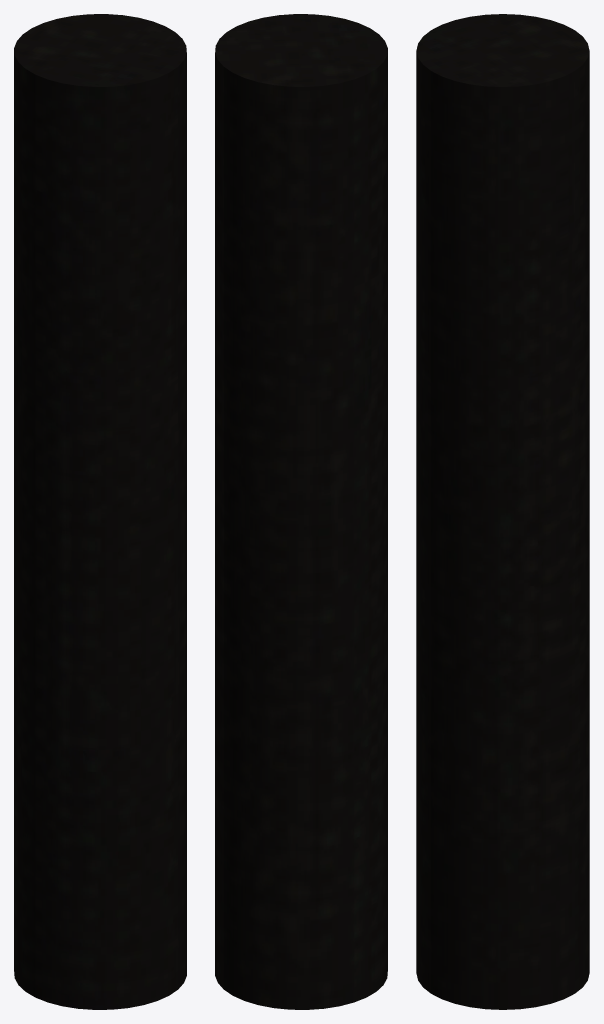
File: frame__handle.glb
3 renders of one model, left to right at view 1: azimuth 30°, elevation 25°; view 2: azimuth 150°, elevation 25°; view 3: azimuth 270°, elevation 25°, orthographic.
Parts seen in each view (by area): view 1: geometry_0; view 2: geometry_0; view 3: geometry_0.
Boxes of the visible parts, left/top/right/bottom form: geometry_0: left=14, top=14, right=186, bottom=1009; geometry_0: left=215, top=14, right=387, bottom=1009; geometry_0: left=416, top=14, right=589, bottom=1009.
Size of the model in its own units: 0.034 by 0.2 by 0.034.
1 material, 1 textured.
